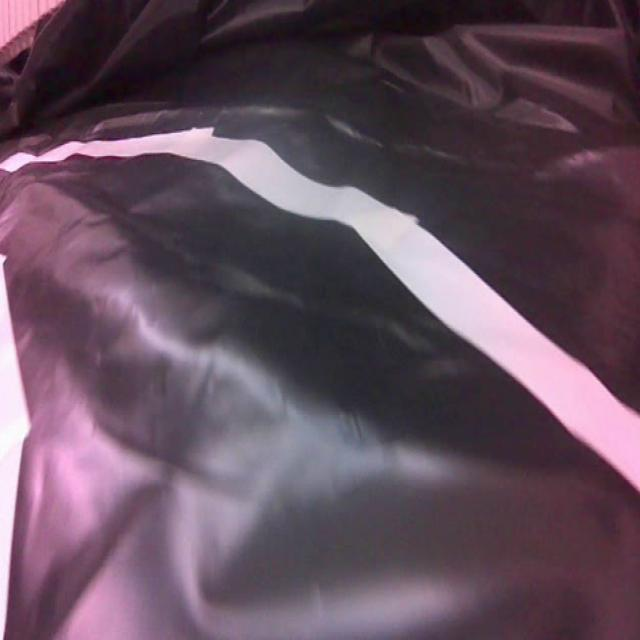LineaCarril: (0, 127, 640, 491), (0, 255, 29, 640)
